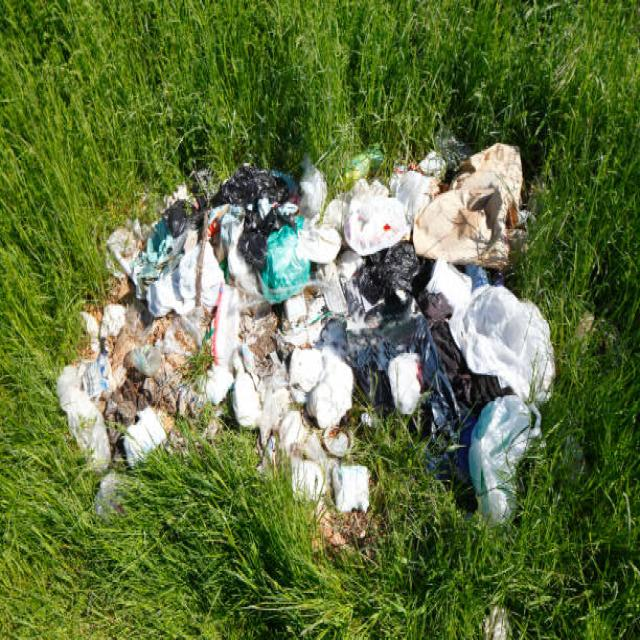plastic: (168, 229, 503, 417)
